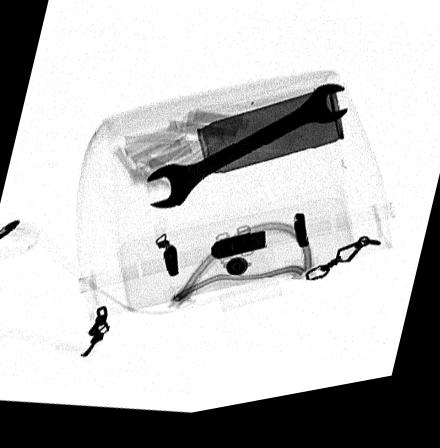Wrench: (146, 94, 347, 214)
